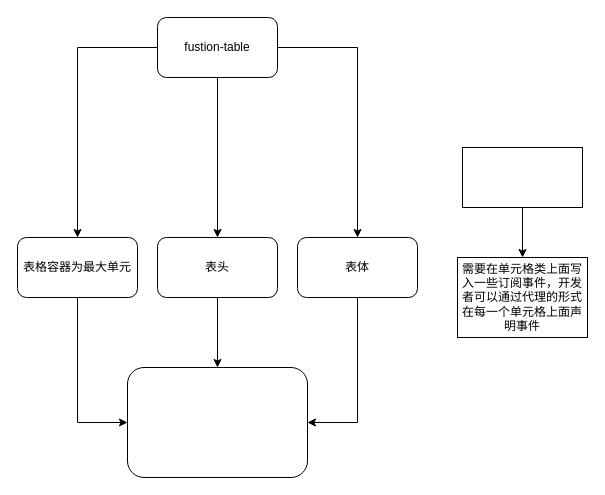
This 605x495 diagram has some shape labels left out. The centre of each missing label's shape, as x and y in pixels:
"单元格为唯一的子类，单元格可以做容器，单元格可以做表头，单元格也可以做表体" goes at point 217,422.
"由一个合成类用来合成我们所需要的组件，表头、表体和表格容器" goes at point 522,177.
